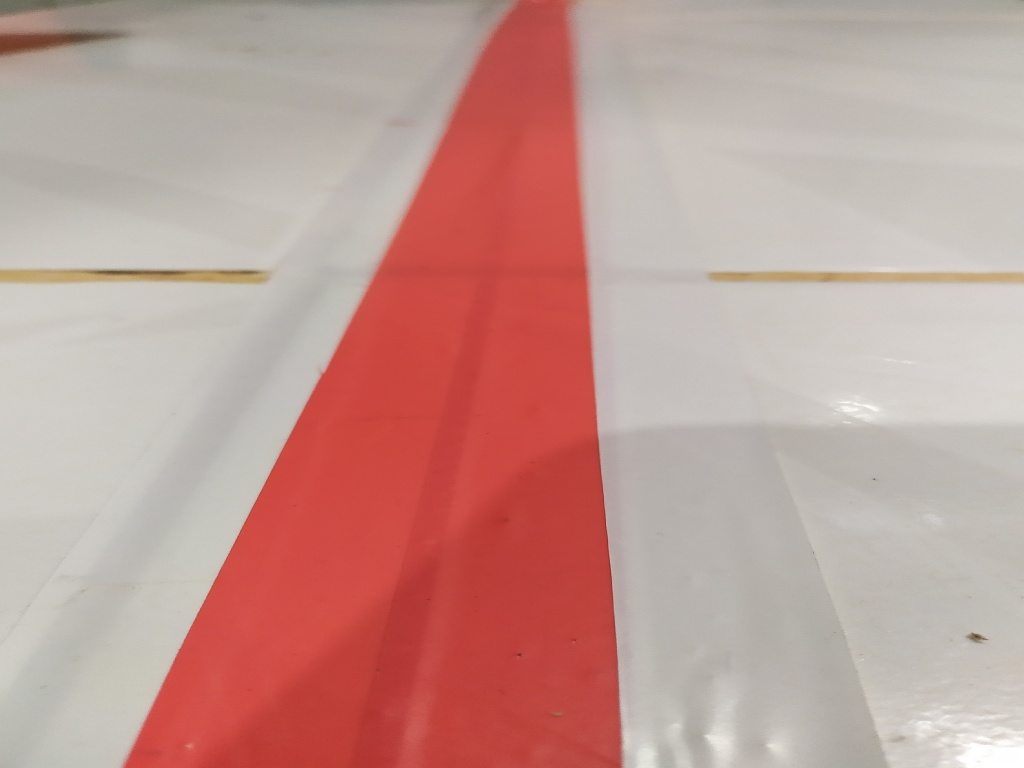reta: (19, 1, 899, 760)
